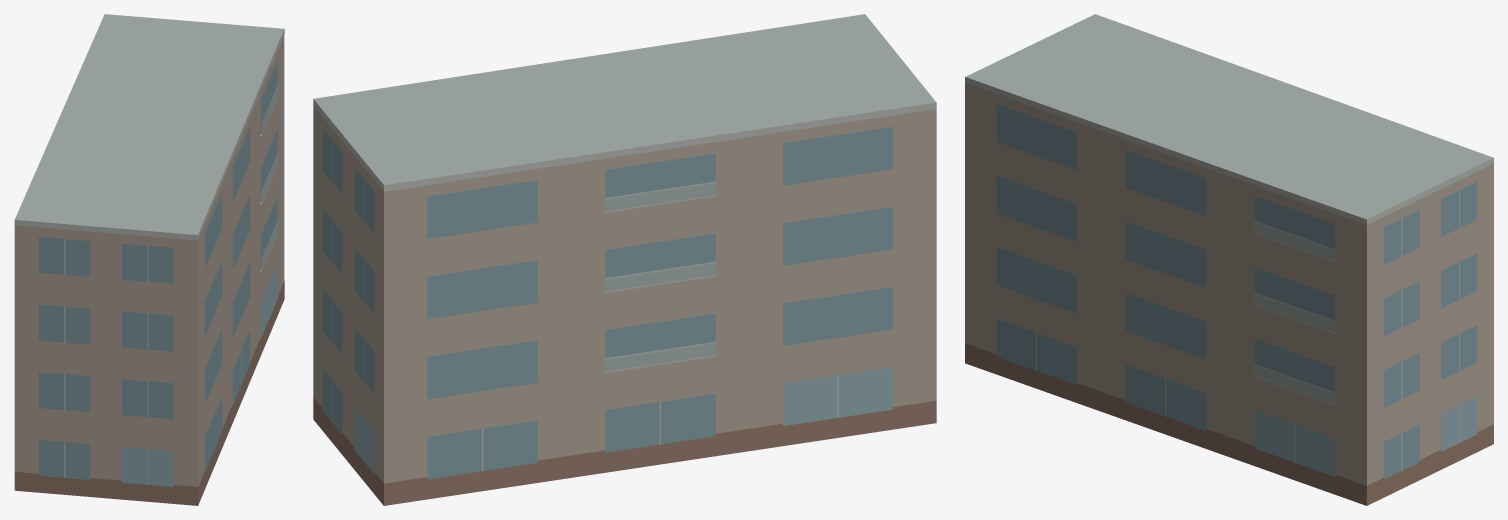
Rendered from survey-upis-32881844.glb.
The picture shows the model from 3 angles, left to right: view 1: azimuth 30°, elevation 25°; view 2: azimuth 150°, elevation 25°; view 3: azimuth 270°, elevation 25°; orthographic projection. The views are drawn at different scales.
Parts seen in each view (by area): view 1: survey-upis-32881844.tmp; view 2: survey-upis-32881844.tmp; view 3: survey-upis-32881844.tmp.
Boxes of the visible parts, x1,y1,x2,y2 form: survey-upis-32881844.tmp: (14, 14, 284, 505); survey-upis-32881844.tmp: (313, 14, 936, 505); survey-upis-32881844.tmp: (965, 14, 1493, 505).
Bounding box in the file's own units: 18.78 × 12.2 × 20.42.
